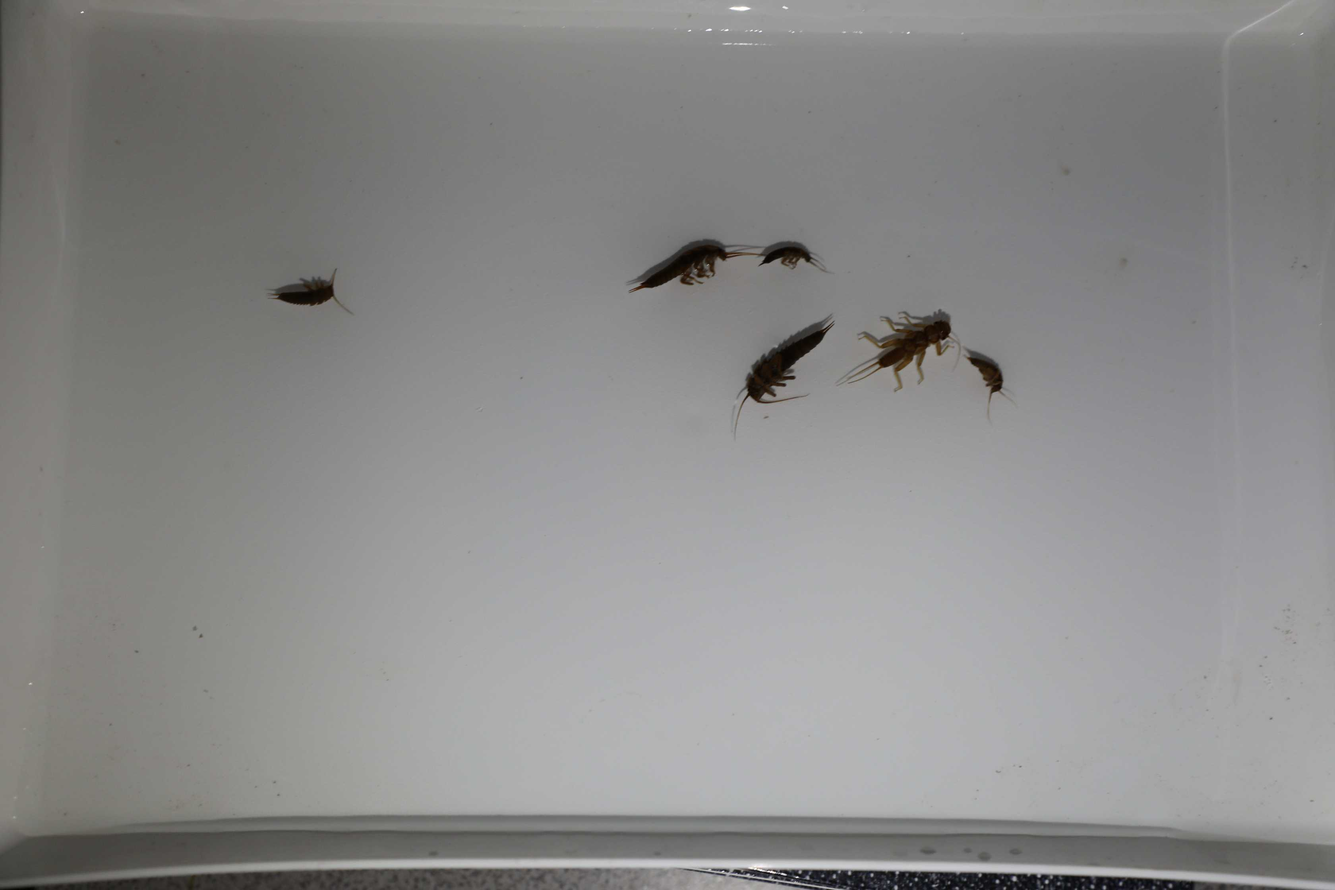Stonefly: (728, 307, 834, 444), (844, 310, 958, 388), (624, 234, 751, 297), (264, 272, 353, 320), (961, 343, 1011, 419), (750, 234, 834, 274)
